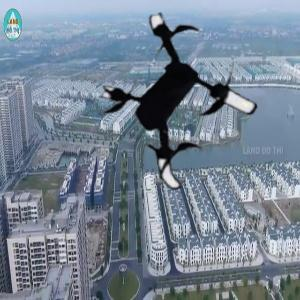drone: (93, 14, 273, 194)
